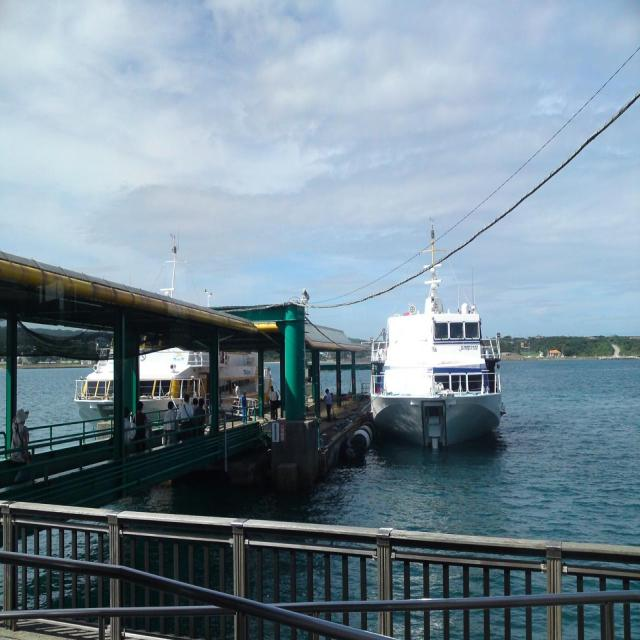cargoship: (66, 263, 268, 426), (371, 230, 504, 448)
